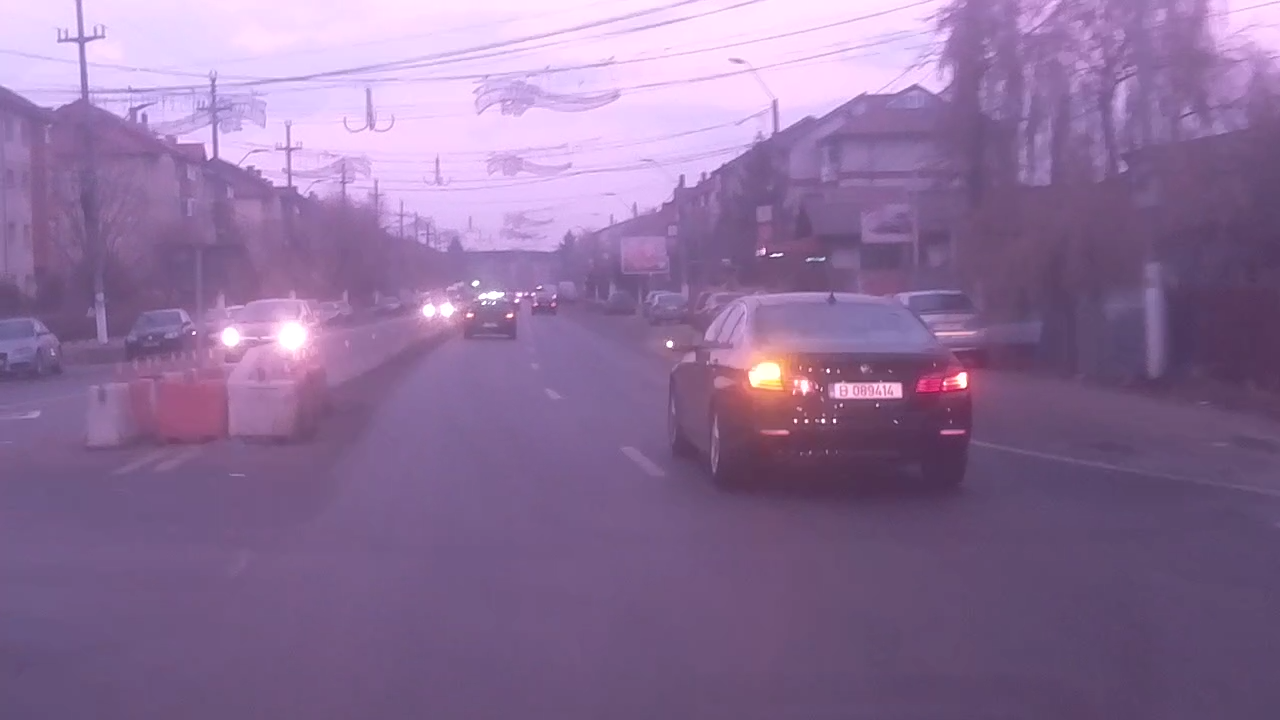license-plate: (823, 378, 907, 401)
